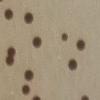brown: (67, 56, 79, 72), (22, 11, 35, 25), (3, 7, 15, 22), (22, 68, 34, 82), (20, 84, 32, 97), (75, 38, 86, 52), (32, 35, 42, 49), (6, 46, 18, 57), (5, 54, 15, 67), (60, 32, 70, 42), (80, 93, 90, 100), (31, 94, 41, 100), (0, 0, 5, 5)
